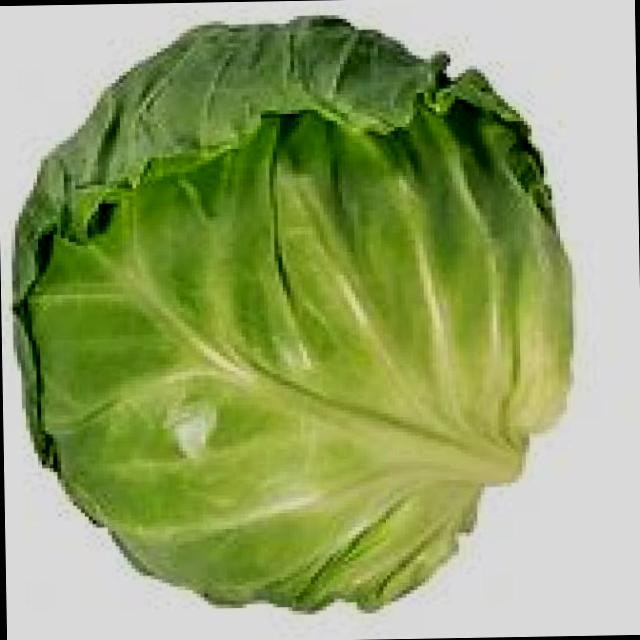cabbage: (0, 16, 600, 627)
